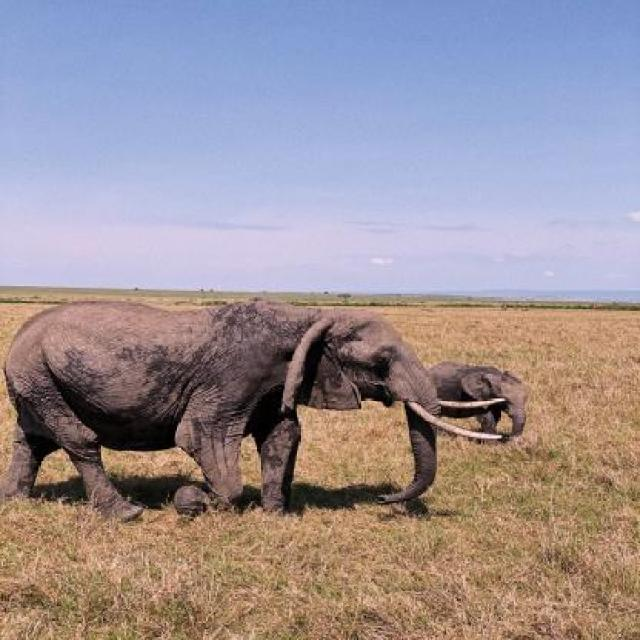Elephant: (0, 290, 508, 522)
